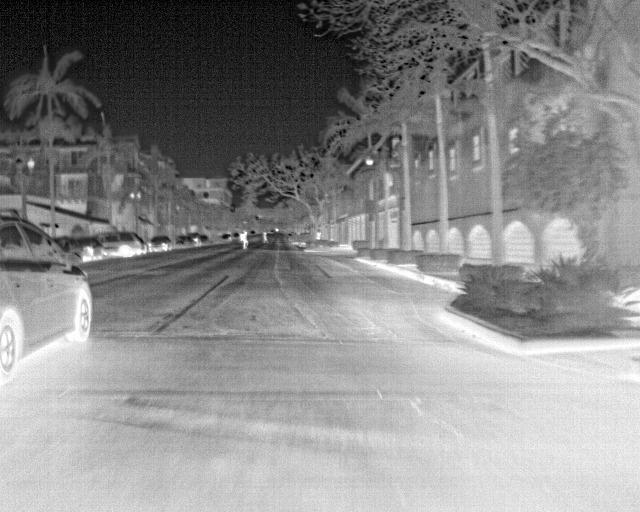bicycle: (0, 212, 94, 368), (99, 234, 145, 260), (76, 235, 104, 262), (148, 234, 172, 251), (186, 230, 202, 247)
empty: (238, 229, 251, 250), (258, 229, 270, 243)
